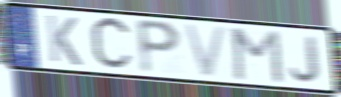C: (88, 15, 135, 74)
J: (288, 34, 322, 85)
K: (44, 12, 84, 68)
M: (230, 26, 286, 86)
P: (134, 16, 184, 76)
V: (181, 21, 230, 80)
